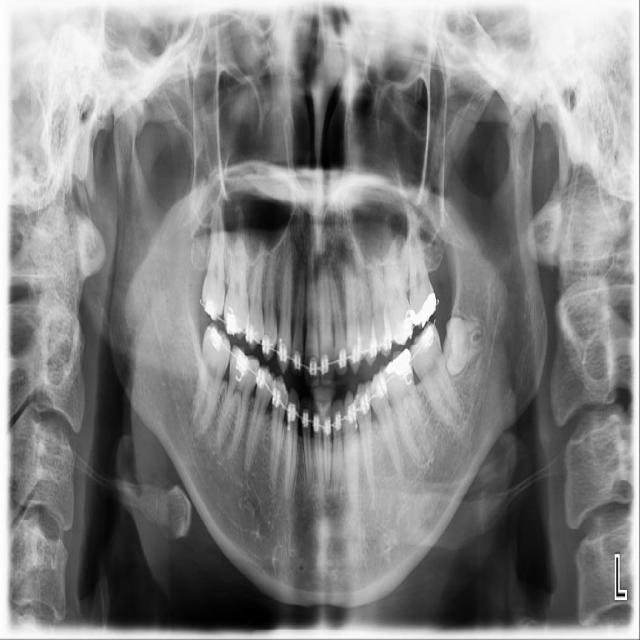Filling: (410, 292, 437, 328), (385, 348, 411, 377), (394, 316, 413, 345)
impacted tooth: (445, 318, 492, 375)
